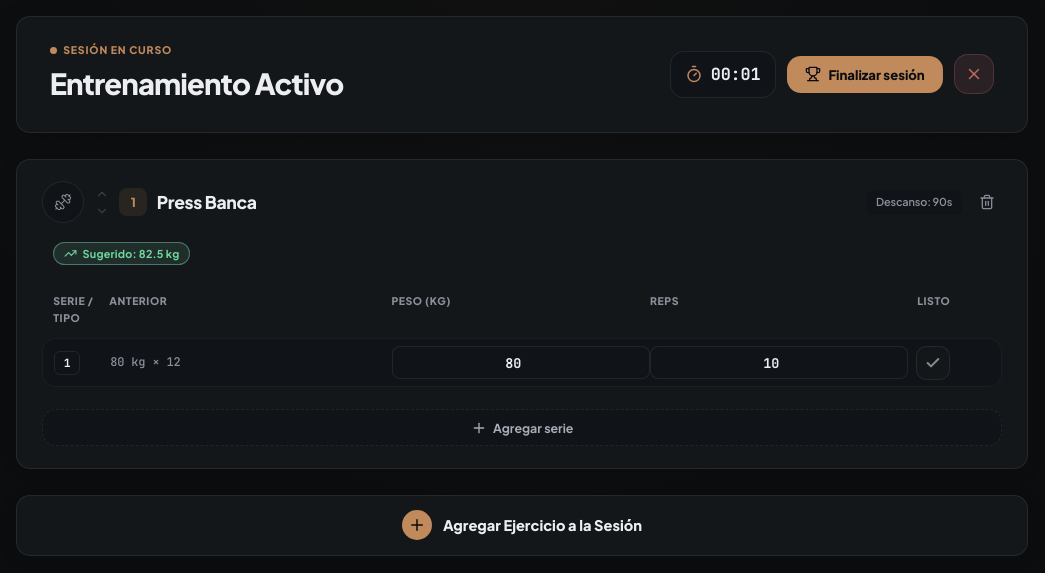
Test: ActiveWorkoutView coaching › shows a progressive overload suggestion and applies it
This screenshot has width=1045, height=573.
Expected: the text "Sugerido: 82.5 kg" is shown, 83,247 -> 180,260
Click the button "Sugerido: 82.5 kg": [122, 254] box 53,242 -> 190,266
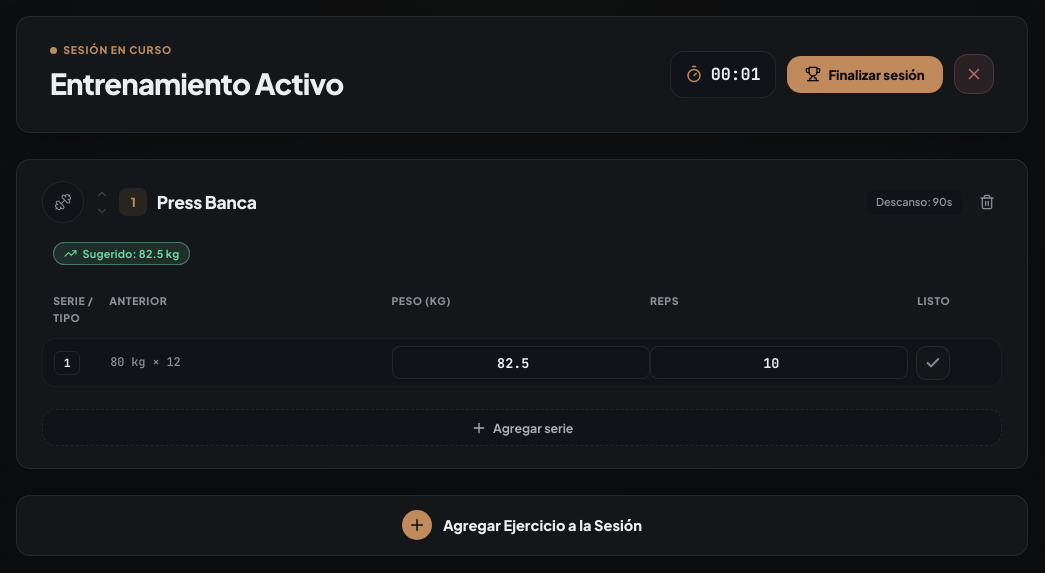
Result: the 1st number field showing "82.5" is shown at 392,346 -> 650,379
